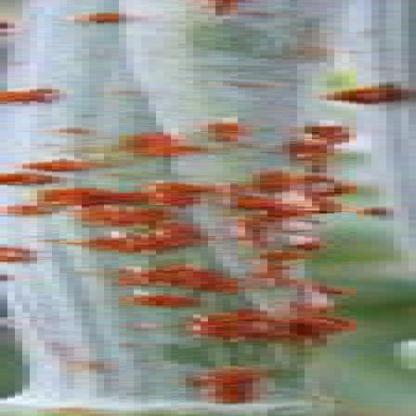wheat Stem Rust: (48, 187, 317, 267), (88, 116, 412, 158), (162, 313, 353, 340), (169, 370, 294, 402), (88, 269, 314, 286), (0, 161, 154, 182), (250, 173, 388, 189), (58, 9, 160, 28), (318, 86, 415, 105), (0, 82, 74, 106), (125, 292, 222, 306)
